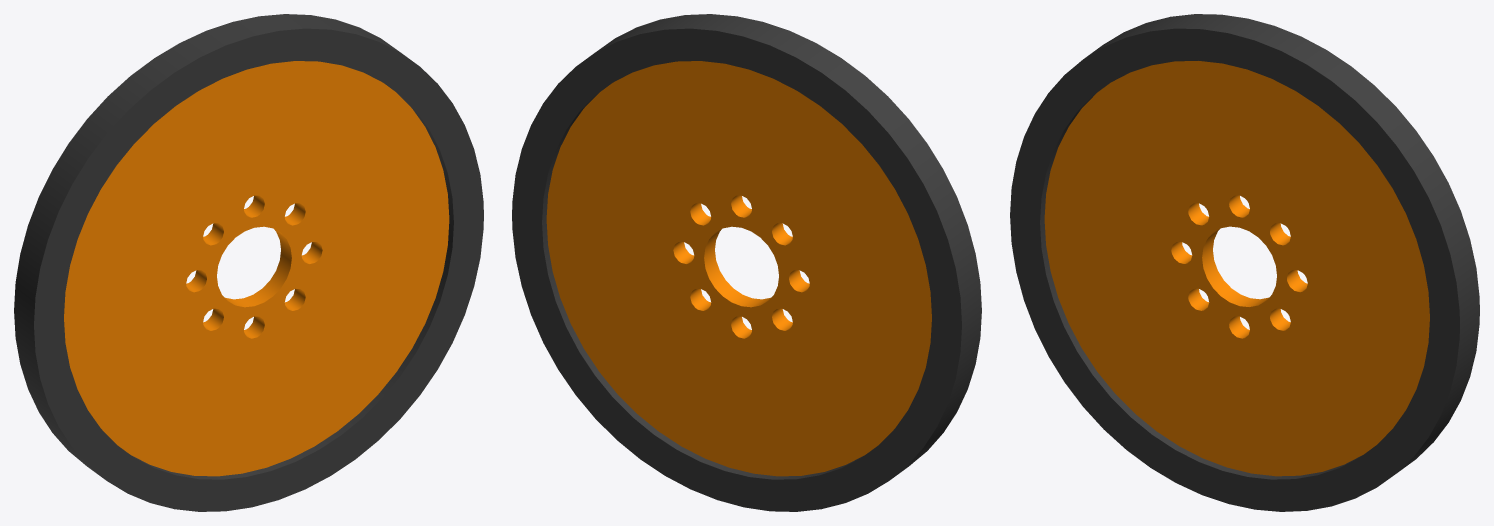
File: ROB-12119.obj
The picture shows the model from 3 angles, left to right: view 1: azimuth 30°, elevation 25°; view 2: azimuth 150°, elevation 25°; view 3: azimuth 330°, elevation 25°; orthographic projection.
Visible parts, largest first — view 1: mesh 2 Boss-Extrude1, mesh 1 RO; view 2: mesh 2 Boss-Extrude1, mesh 1 RO; view 3: mesh 2 Boss-Extrude1, mesh 1 RO.
Part boxes in pixels (bbox=[...]): mesh 2 Boss-Extrude1: bbox=[64, 61, 449, 476]; mesh 1 RO: bbox=[14, 14, 483, 511]; mesh 2 Boss-Extrude1: bbox=[546, 61, 931, 476]; mesh 1 RO: bbox=[512, 14, 981, 511]; mesh 2 Boss-Extrude1: bbox=[1044, 61, 1429, 476]; mesh 1 RO: bbox=[1010, 14, 1479, 511].
Size of the model in its own units: 0.0762 by 0.0762 by 0.00584.
